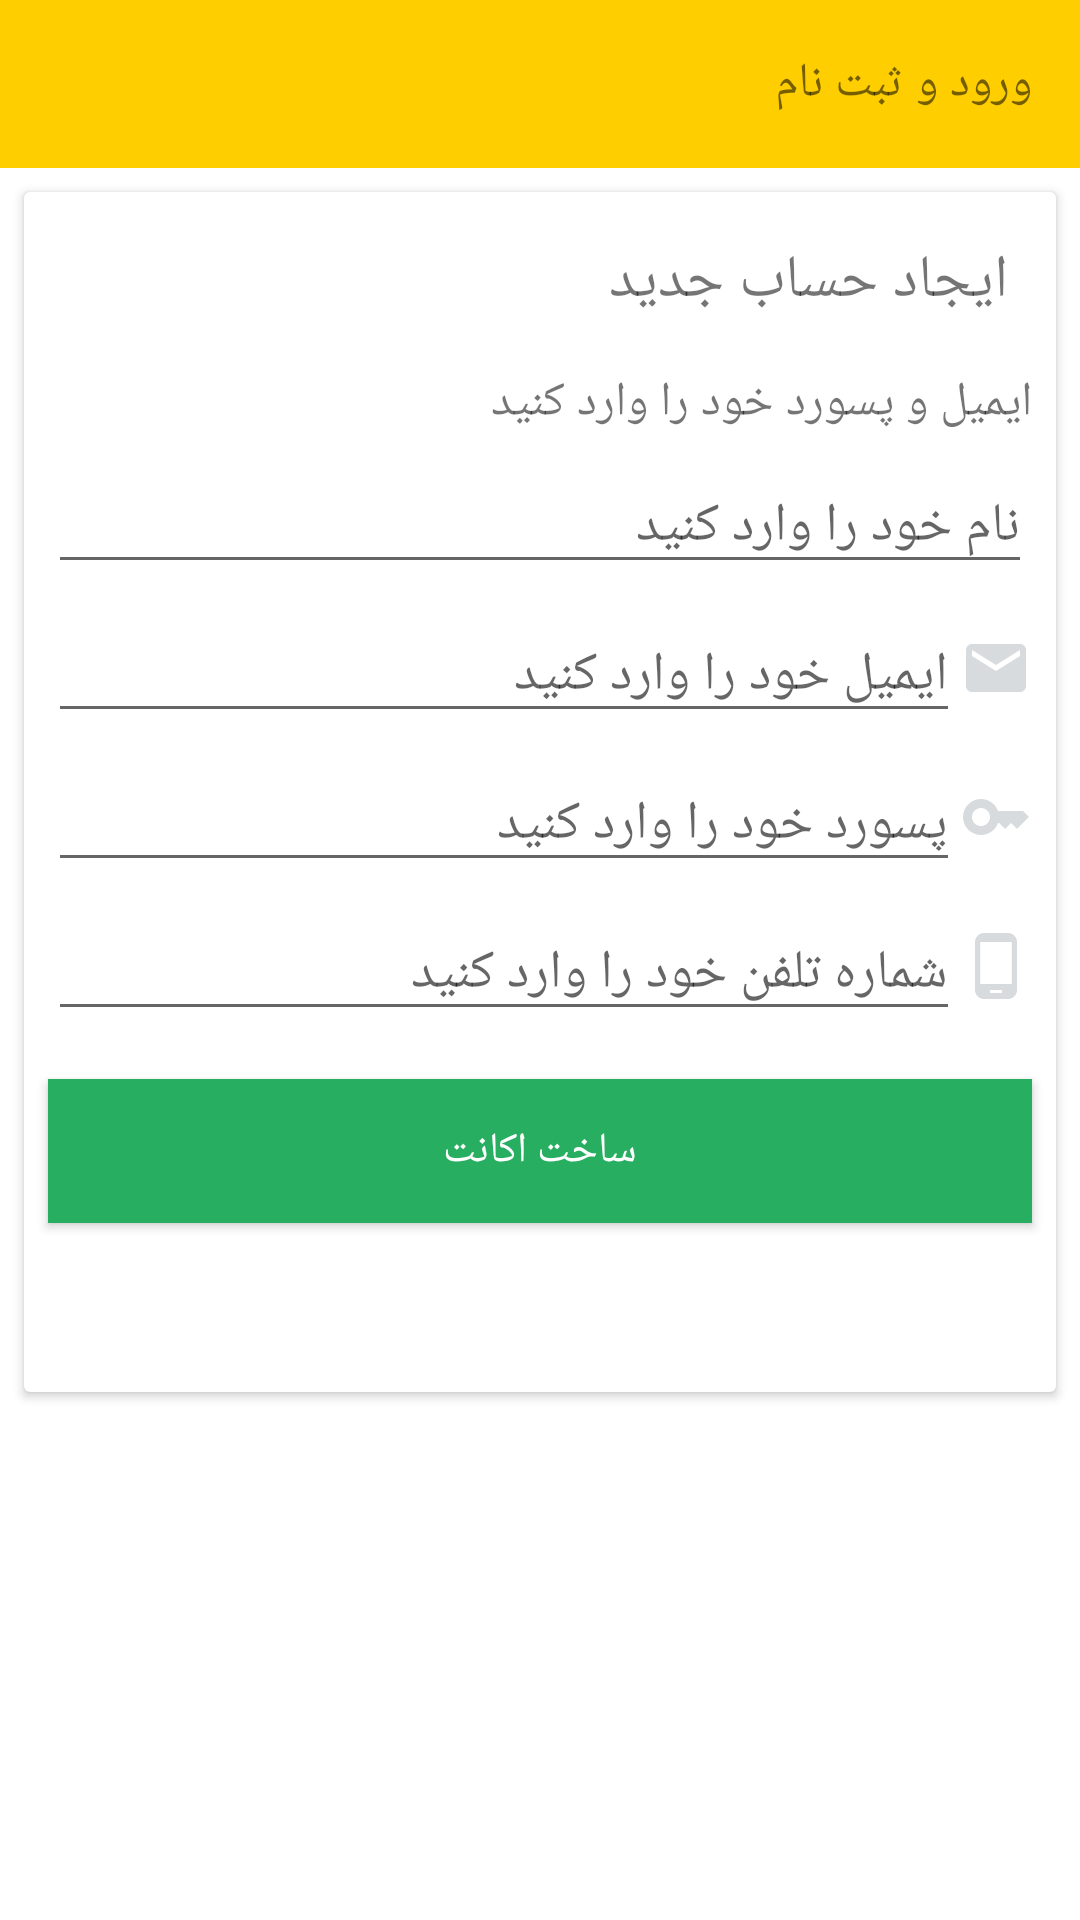

Named icons in this screenshot (1080px x 1920px) and their bounding boxes, (x1, y1, x2, y2):
email: (966, 644, 1026, 692)
key: (963, 799, 1029, 835)
phone android: (975, 933, 1017, 999)
